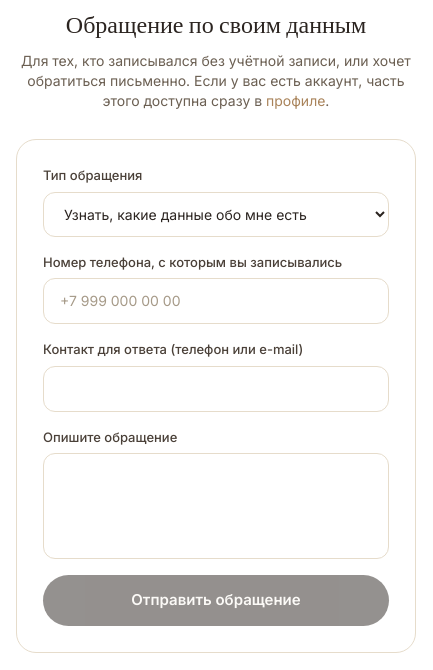
Test: SubjectRequestPage › keeps submit disabled until phone, contact and message are all filled
Expected: the button "Отправить обращение" is disabled, [43,575,389,626]
Type "+79991234567" into the field labelled "Номер телефона, с которым вы записывались" at coordinates (216, 301), box [43,278,389,324]
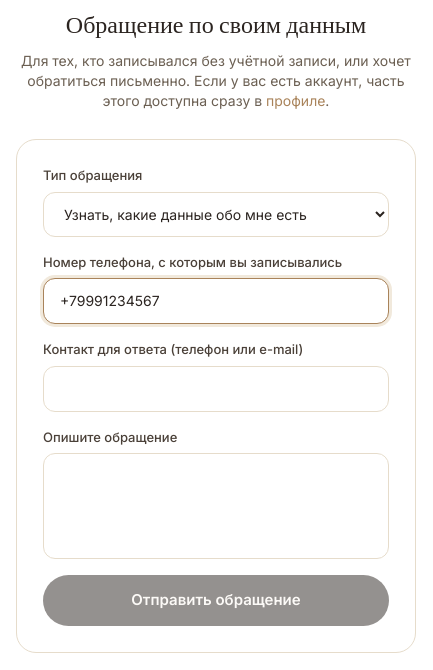
Expected: the button "Отправить обращение" is disabled, [43,575,389,626]
Type "me@example.com" into the field labelled "Контакт для ответа (телефон или e-mail)" at coordinates (216, 388), box [43,366,389,412]
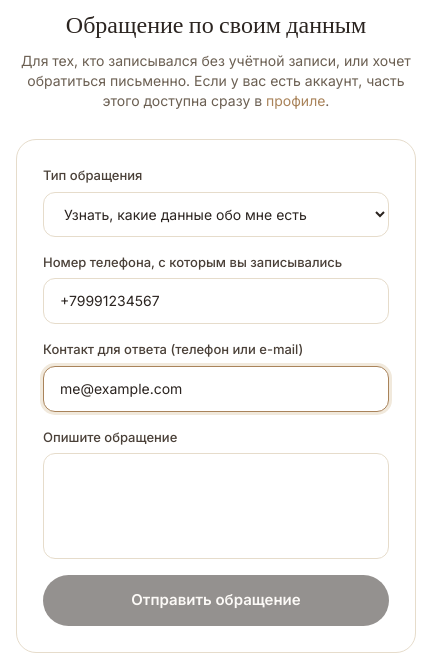
Expected: the button "Отправить обращение" is disabled, [43,575,389,626]
Type "Прошу удалить мои данные" into the text box labelled "Опишите обращение" at coordinates (216, 506), box [43,453,389,559]
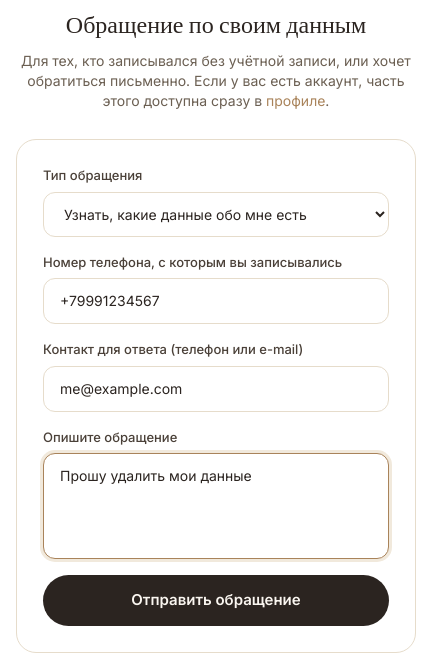
Now the button "Отправить обращение" is enabled, box [43,575,389,626]
